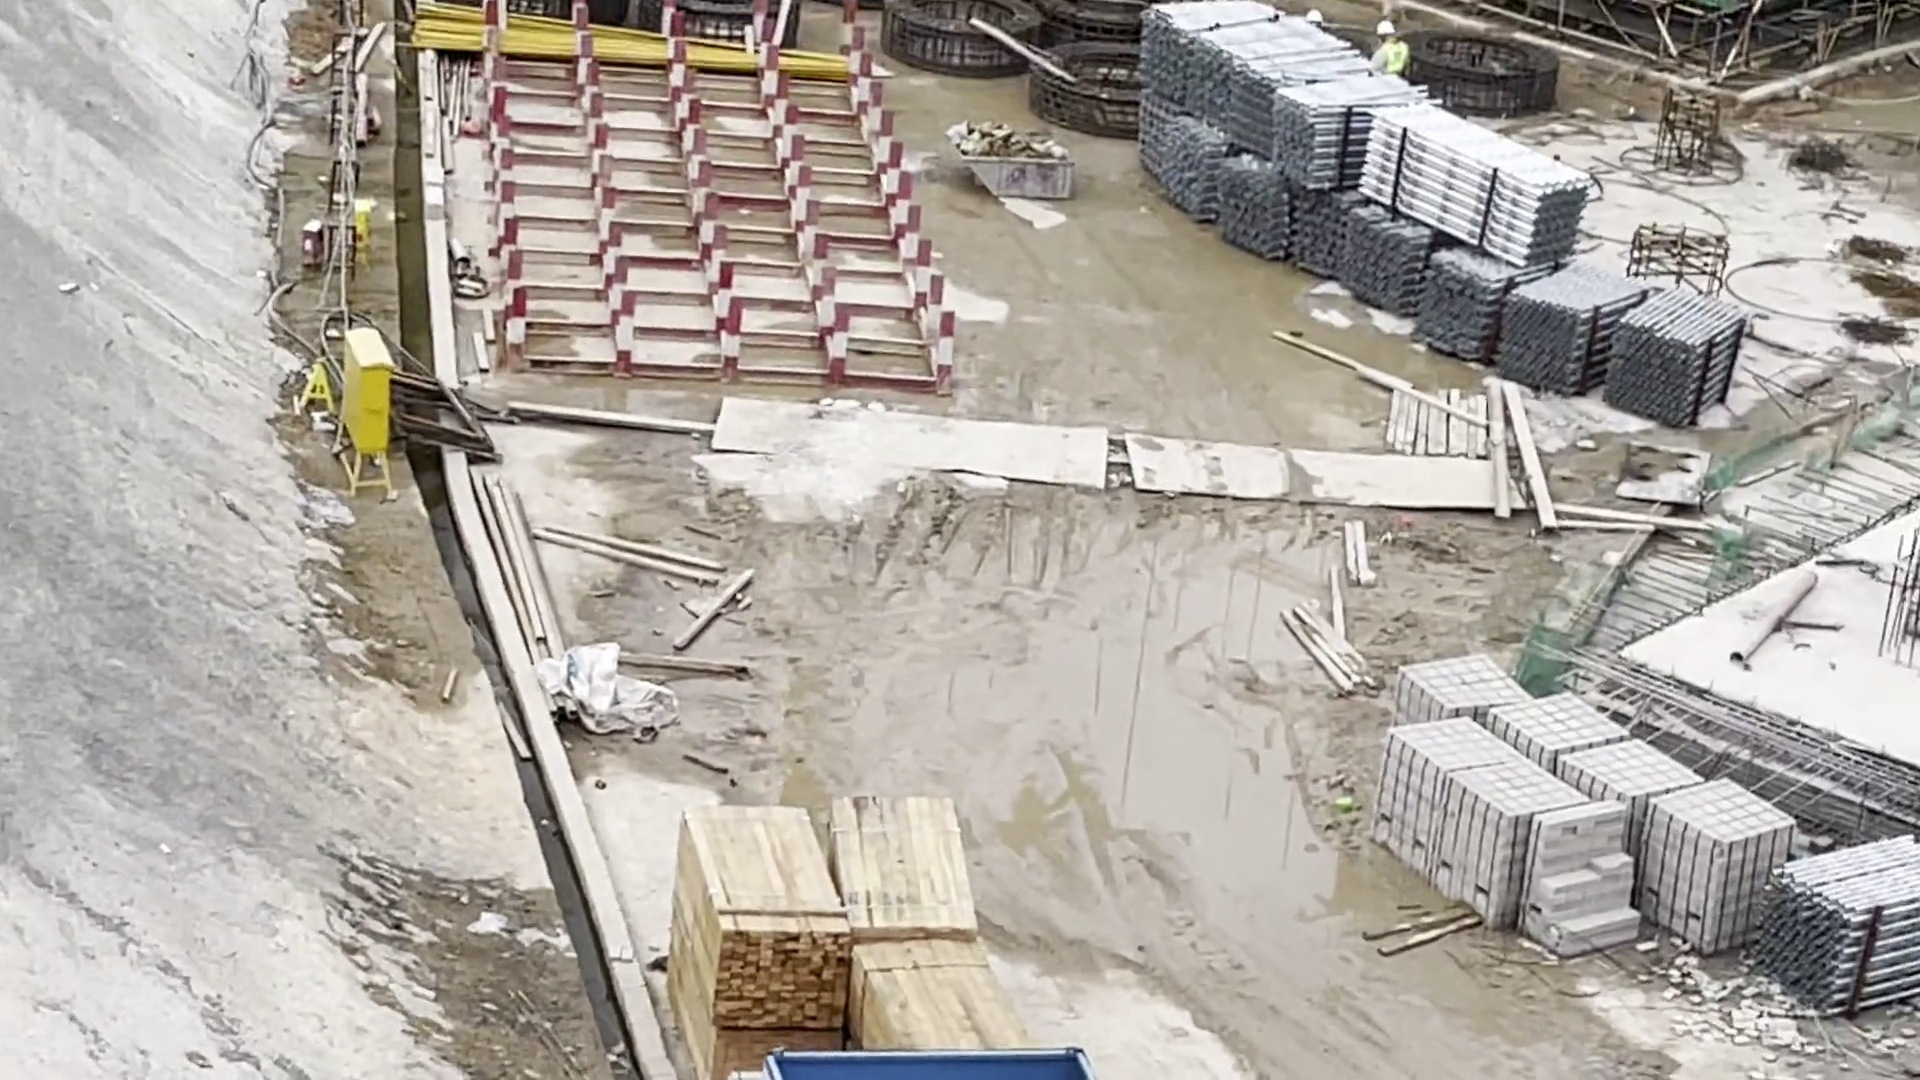brick: (1354, 641, 1795, 976), (718, 1045, 773, 1080)
ebox: (308, 323, 407, 489), (346, 184, 383, 269)
helmet: (1369, 17, 1400, 42), (1304, 5, 1325, 27)
hopper: (942, 114, 1087, 220)
person: (1366, 16, 1413, 80)
scaffold: (1135, 1, 1790, 422), (1754, 828, 1920, 1016)
vest: (1367, 41, 1426, 78)
wood: (646, 784, 1065, 1054)
